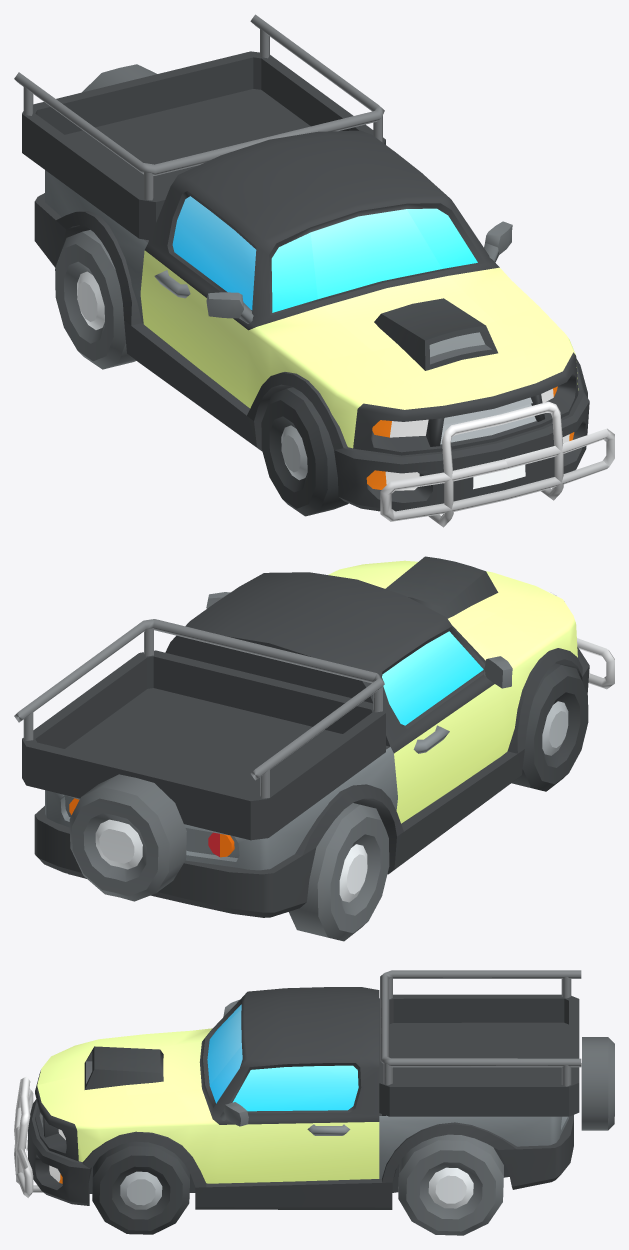
File: Car_33.glb
The picture shows the model from 3 angles, top to bottom: view 1: azimuth 30°, elevation 25°; view 2: azimuth 150°, elevation 25°; view 3: azimuth 270°, elevation 25°; orthographic projection. The views are drawn at different scales.
Parts seen in each view (by area): view 1: Car_33, Wheel_053, Wheel_054; view 2: Car_33, Wheel_054, Wheel_053; view 3: Car_33, Wheel_056, Wheel_055.
Boxes of the visible parts, bbox=[...] form: Car_33: bbox=[14, 14, 614, 527]; Wheel_053: bbox=[261, 387, 348, 516]; Wheel_054: bbox=[55, 230, 135, 369]; Car_33: bbox=[14, 556, 614, 917]; Wheel_054: bbox=[289, 803, 389, 941]; Wheel_053: bbox=[511, 663, 588, 791]; Car_33: bbox=[14, 970, 614, 1209]; Wheel_056: bbox=[398, 1134, 503, 1235]; Wheel_055: bbox=[92, 1141, 189, 1234].
Size of the model in its own units: 2.23 by 1.61 by 4.98.
Materials: 2 (2 with a texture image).
